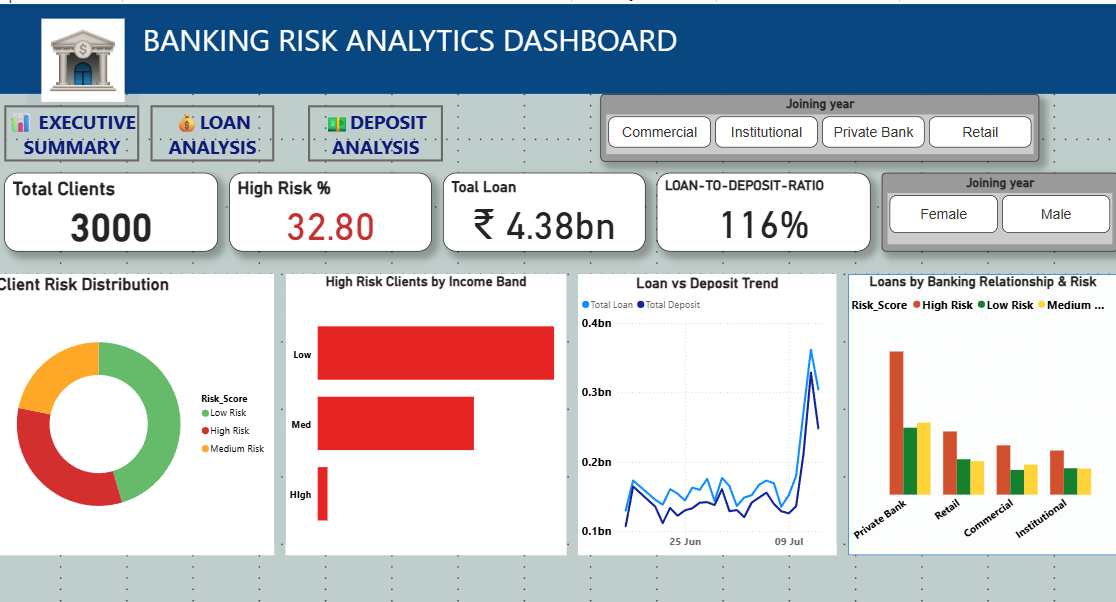

Layout of this report page (visuals, bound fields, positions):
{"tool":"powerbi","page":{"name":"HOME","canvas":[1600,900],"ordinal":0},"visuals":[{"type":"shape","box":[0,0,1600,128],"z":0},{"type":"textbox","box":[208,16,864,112],"z":1000},{"type":"image","box":[48,16,160,128],"z":2000},{"type":"card","title":"Total Clients","fields":{"Values":["banking_client.Total Clients"]},"box":[16,240,304,112],"z":3000},{"type":"card","title":"Toal Loan","fields":{"Values":["banking_client.Total Loan"]},"box":[640,240,288,112],"z":4000},{"type":"card","title":"High Risk %","fields":{"Values":["banking_client.High Risk Percentage"]},"box":[336,240,288,112],"z":5000},{"type":"card","title":"LOAN-TO-DEPOSIT-RATIO","fields":{"Values":["banking_client.LoanToDeposit Ratio"]},"box":[944,240,304,112],"z":6000},{"type":"actionButton","box":[16,144,192,80],"z":7000},{"type":"actionButton","box":[224,144,176,80],"z":8000},{"type":"actionButton","box":[448,144,192,80],"z":9000},{"type":"shape","box":[32,384,368,384],"z":11000},{"type":"donutChart","title":"Client Risk Distribution","fields":{"Category":["banking_client.Risk score"],"Y":["banking_client.Total Clients"]},"box":[0,384,400,400],"z":12000},{"type":"shape","box":[416,384,400,384],"z":13000},{"type":"clusteredBarChart","title":"High Risk Clients by Income Band","fields":{"Category":["banking_client.Income Band"],"Y":["banking_client.High Risk Clients"]},"box":[416,384,400,400],"z":14000},{"type":"shape","box":[832,384,368,384],"z":15000},{"type":"lineChart","title":"Loan vs Deposit Trend","fields":{"Category":["banking_client.Joining year"],"Y":["banking_client.Total Loan","banking_client.Total Deposit"]},"box":[832,384,368,400],"z":16000},{"type":"ChicletSlicer1448559807354","title":"Joining year","fields":{"Category":["banking_realtionships.Banking Relationship"]},"box":[864,128,624,96],"z":17000},{"type":"shape","box":[1216,384,384,400],"z":18000},{"type":"clusteredColumnChart","title":" Loans by Banking Relationship & Risk","fields":{"Category":["banking_client.BRId"],"Y":["Sum(banking_client.Bank Loans)"],"Series":["banking_client.Risk score"]},"box":[1216,384,384,400],"z":19000},{"type":"ChicletSlicer1448559807354","title":"Joining year","fields":{"Category":["banking_client.Gender"]},"box":[1264,240,336,112],"z":20000}]}

Visuals, with their boxes on the page's 1600x900 design canvas (x1, y1, x2, y2). These are canvas units, not pixel positions in the 1116x602 screenshot, which may show the page scaled, cropped or inside an application window:
shape: locate(0, 0, 1600, 128)
textbox: locate(208, 16, 1072, 128)
image: locate(48, 16, 208, 144)
"Total Clients" card: locate(16, 240, 320, 352)
"Toal Loan" card: locate(640, 240, 928, 352)
"High Risk %" card: locate(336, 240, 624, 352)
"LOAN-TO-DEPOSIT-RATIO" card: locate(944, 240, 1248, 352)
actionButton: locate(16, 144, 208, 224)
actionButton: locate(224, 144, 400, 224)
actionButton: locate(448, 144, 640, 224)
shape: locate(32, 384, 400, 768)
"Client Risk Distribution" donutChart: locate(0, 384, 400, 784)
shape: locate(416, 384, 816, 768)
"High Risk Clients by Income Band" clusteredBarChart: locate(416, 384, 816, 784)
shape: locate(832, 384, 1200, 768)
"Loan vs Deposit Trend" lineChart: locate(832, 384, 1200, 784)
"Joining year" ChicletSlicer1448559807354: locate(864, 128, 1488, 224)
shape: locate(1216, 384, 1600, 784)
" Loans by Banking Relationship & Risk" clusteredColumnChart: locate(1216, 384, 1600, 784)
"Joining year" ChicletSlicer1448559807354: locate(1264, 240, 1600, 352)
